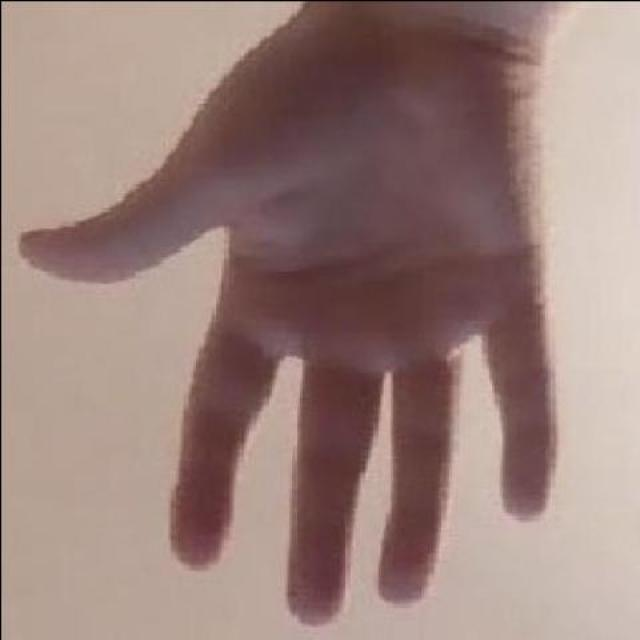Open Hand: (15, 0, 572, 632)
